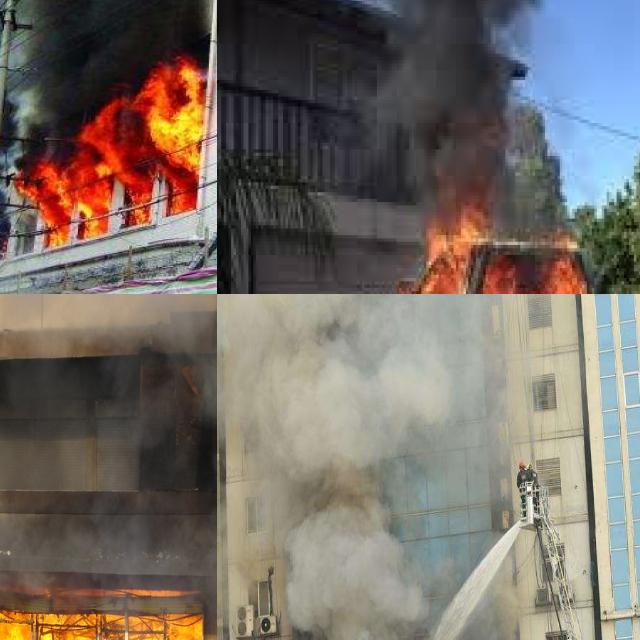fire: (8, 55, 199, 247), (394, 192, 599, 294), (0, 594, 206, 640)
smoke: (217, 294, 452, 640), (0, 294, 217, 605), (369, 0, 542, 212), (0, 0, 211, 146), (487, 564, 517, 635)
